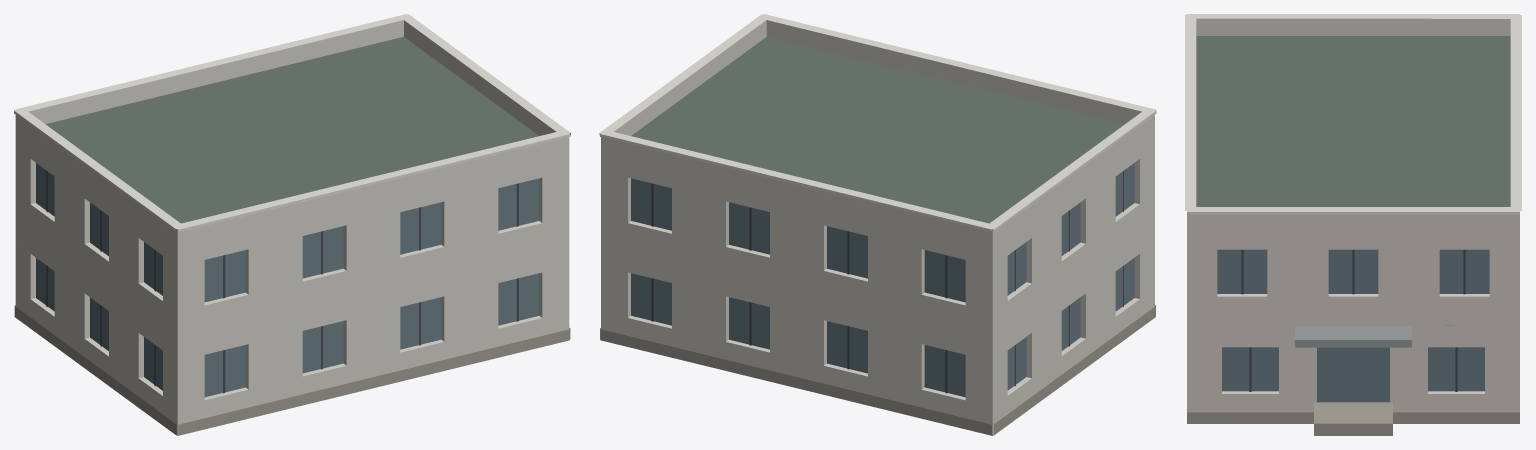
The picture shows the model from 3 angles, left to right: view 1: azimuth 30°, elevation 25°; view 2: azimuth 150°, elevation 25°; view 3: azimuth 270°, elevation 25°; orthographic projection. The views are drawn at different scales.
Parts seen in each view (by area): view 1: unk8452__wall, unk8452__roof, unk8452__glass, unk8452__parapet, unk8452__trim, unk8452__base, unk8452__frame; view 2: unk8452__wall, unk8452__roof, unk8452__glass, unk8452__parapet, unk8452__trim, unk8452__base, unk8452__frame; view 3: unk8452__roof, unk8452__wall, unk8452__glass, unk8452__parapet, unk8452__trim, unk8452__base, unk8452__canopy, unk8452__frame.
Boxes of the visible parts, x1,y1,x2,y2 form: unk8452__wall: [15, 127, 569, 435]; unk8452__roof: [45, 37, 538, 435]; unk8452__glass: [36, 163, 539, 397]; unk8452__parapet: [15, 20, 569, 245]; unk8452__trim: [14, 14, 570, 232]; unk8452__base: [14, 305, 570, 435]; unk8452__frame: [46, 170, 518, 393]; unk8452__wall: [601, 127, 1154, 435]; unk8452__roof: [631, 37, 1124, 435]; unk8452__glass: [631, 163, 1134, 397]; unk8452__parapet: [601, 20, 1154, 245]; unk8452__trim: [599, 14, 1156, 232]; unk8452__base: [600, 305, 1155, 435]; unk8452__frame: [651, 171, 1123, 393]; unk8452__roof: [1187, 36, 1510, 423]; unk8452__wall: [1187, 228, 1519, 412]; unk8452__glass: [1217, 249, 1489, 402]; unk8452__parapet: [1187, 18, 1519, 228]; unk8452__trim: [1185, 14, 1521, 214]; unk8452__base: [1187, 402, 1519, 435]; unk8452__canopy: [1295, 326, 1411, 347]; unk8452__frame: [1241, 249, 1465, 391].
Size of the model in its own units: 15.75 by 7.8 by 10.65.
